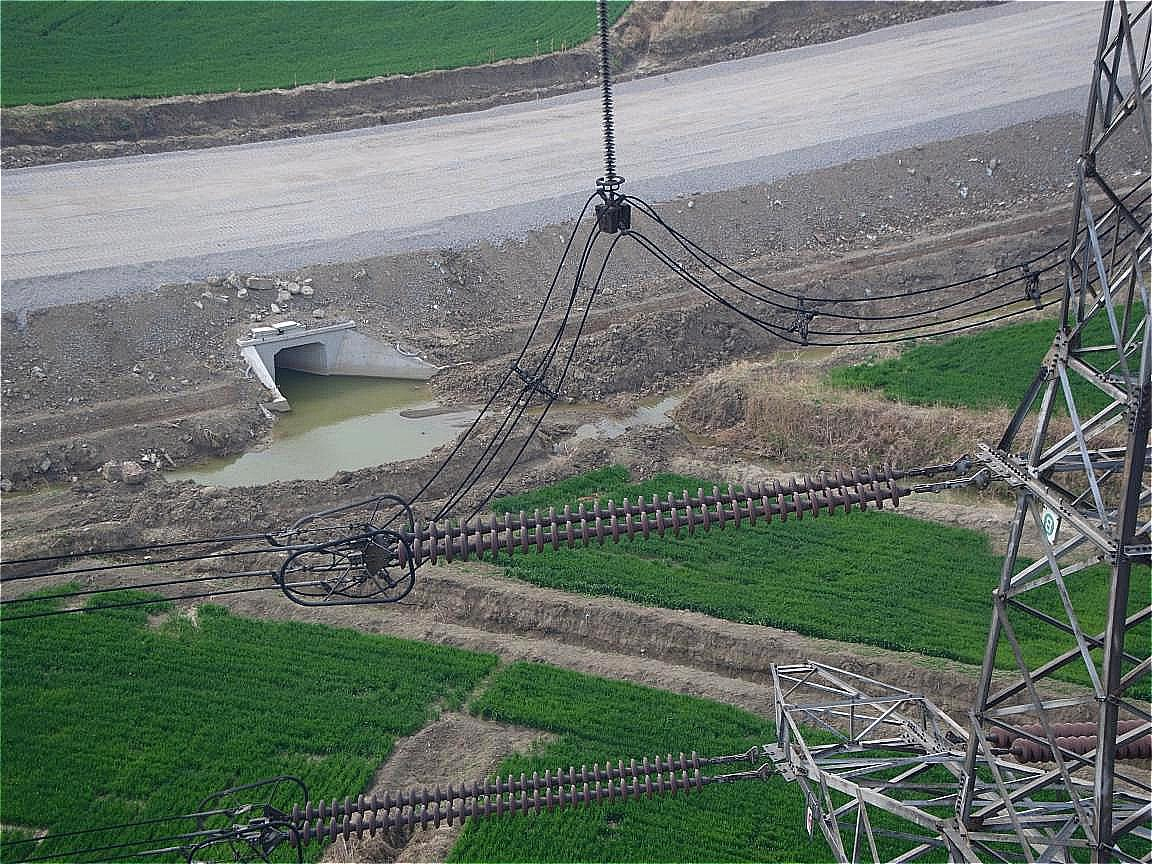insultor1: (378, 453, 917, 562), (281, 749, 720, 843)
